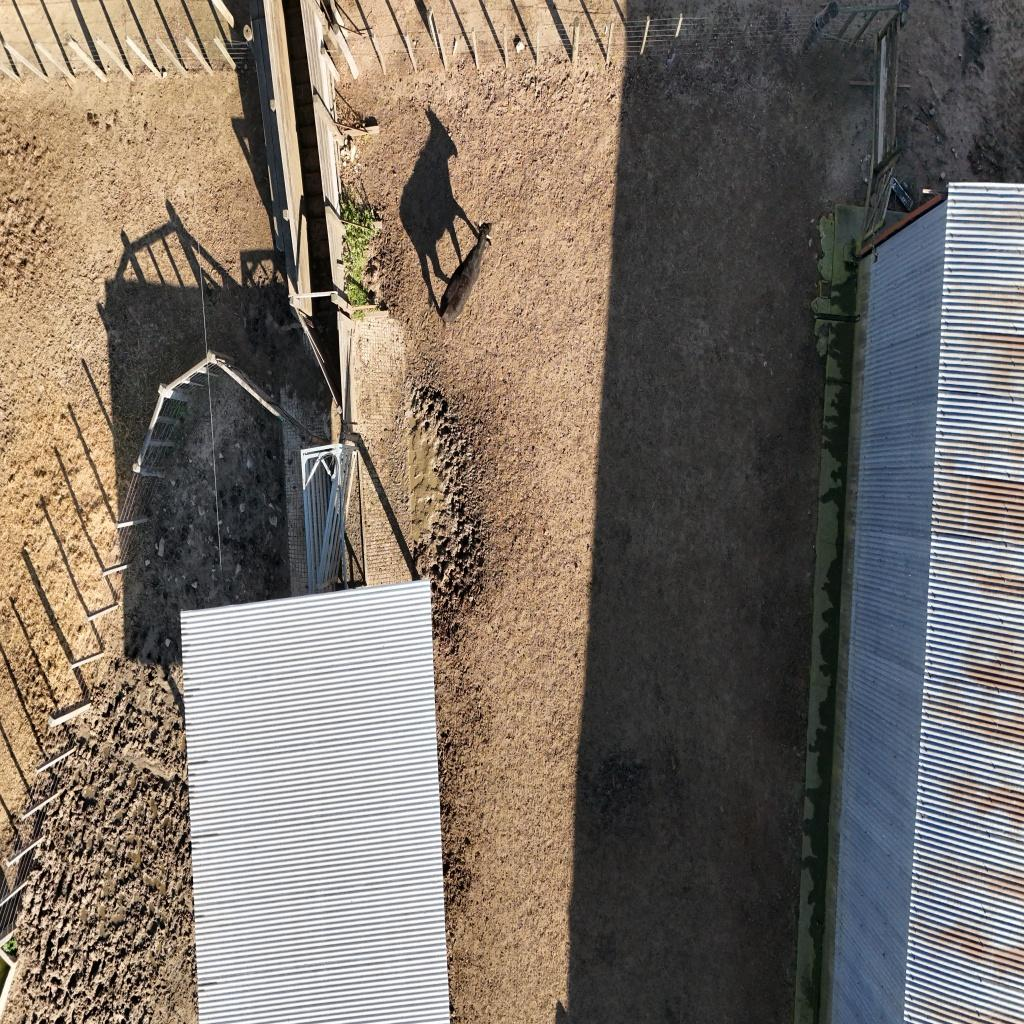cow: (437, 222, 497, 324)
